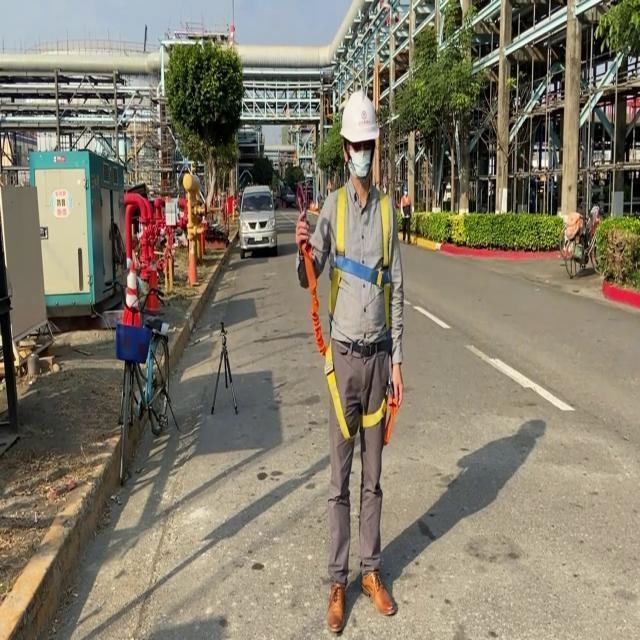Arnes_seguridad: (325, 182, 398, 436)
